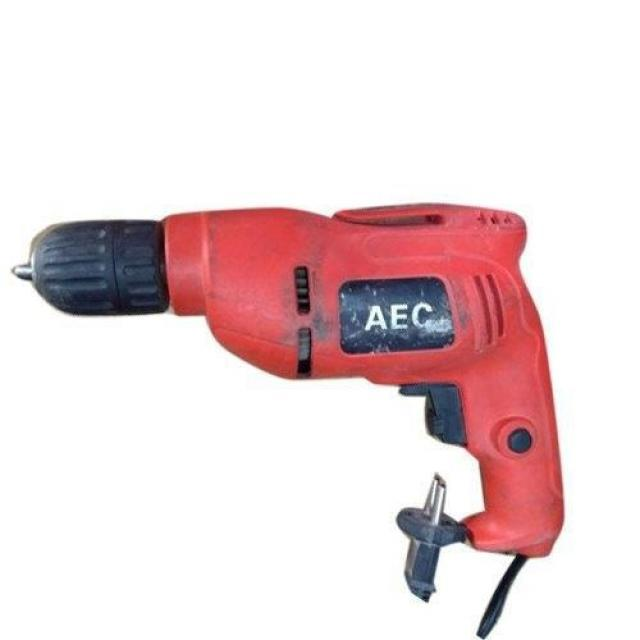drill: (11, 202, 566, 558)
